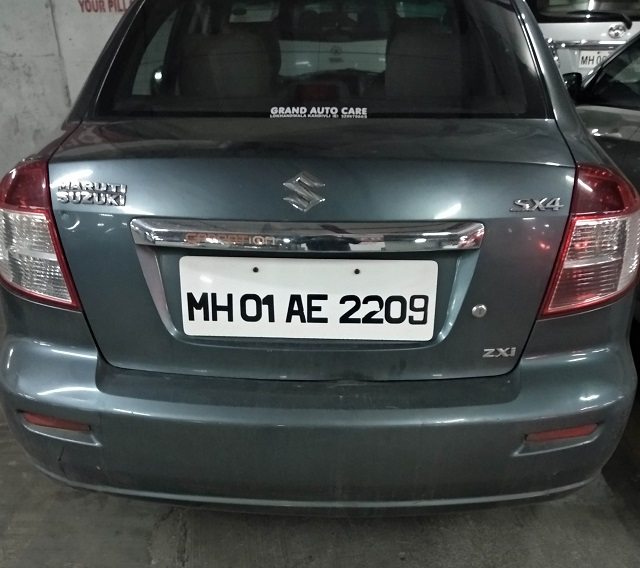licenseplate: (178, 253, 438, 343)
